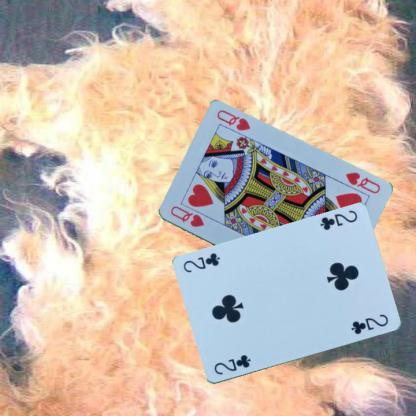2c: (317, 208, 359, 232), (211, 352, 252, 376)
Qh: (342, 170, 382, 196), (167, 204, 205, 228)
